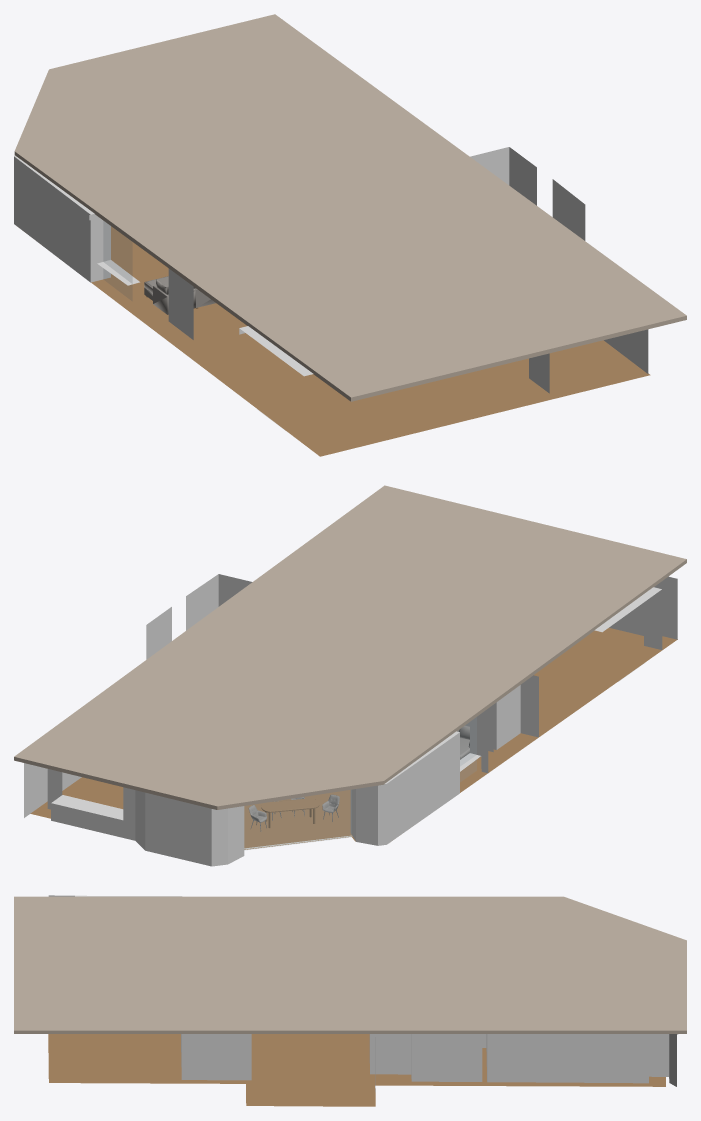
File: AAELS-mobile-kitchen.glb
3 renders of one model, top to bottom at view 1: azimuth 30°, elevation 25°; view 2: azimuth 150°, elevation 25°; view 3: azimuth 270°, elevation 25°, orthographic. The views are drawn at different scales.
Visible parts, largest first — view 1: AAELS_MOBILE_KITCHEN_ARCHITECTURE, AAELS_MOBILE_KITCHEN_DECOR; view 2: AAELS_MOBILE_KITCHEN_ARCHITECTURE, AAELS_MOBILE_KITCHEN_DECOR; view 3: AAELS_MOBILE_KITCHEN_ARCHITECTURE, AAELS_MOBILE_KITCHEN_DECOR.
Part boxes in pixels (x1,y1,x2,y2): AAELS_MOBILE_KITCHEN_ARCHITECTURE: (14,14,686,401); AAELS_MOBILE_KITCHEN_DECOR: (14,147,650,456); AAELS_MOBILE_KITCHEN_ARCHITECTURE: (14,485,686,809); AAELS_MOBILE_KITCHEN_DECOR: (24,574,677,866); AAELS_MOBILE_KITCHEN_ARCHITECTURE: (14,896,686,1033); AAELS_MOBILE_KITCHEN_DECOR: (48,895,678,1106).
Size of the model in its own units: 11.65 by 2.05 by 21.27.
